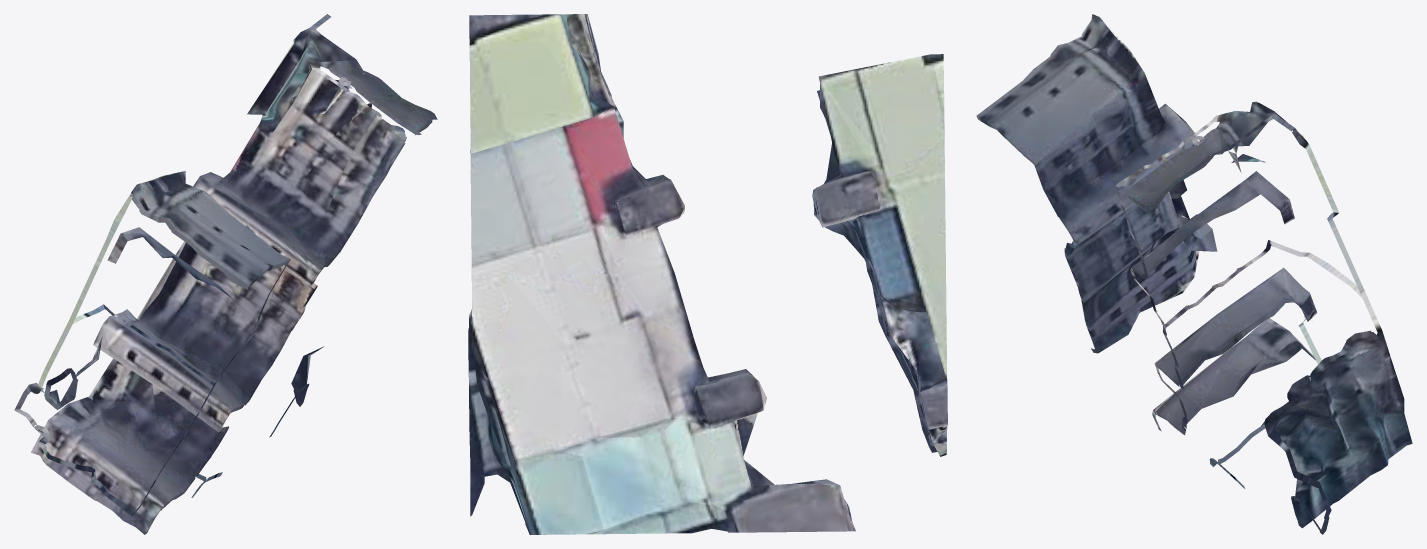
3 renders of one model, left to right at view 1: azimuth 30°, elevation 25°; view 2: azimuth 150°, elevation 25°; view 3: azimuth 270°, elevation 25°, orthographic. The views are drawn at different scales.
Bounding box in the file's own units: 40.28 × 40.62 × 37.43.
2 materials, 2 textured.
